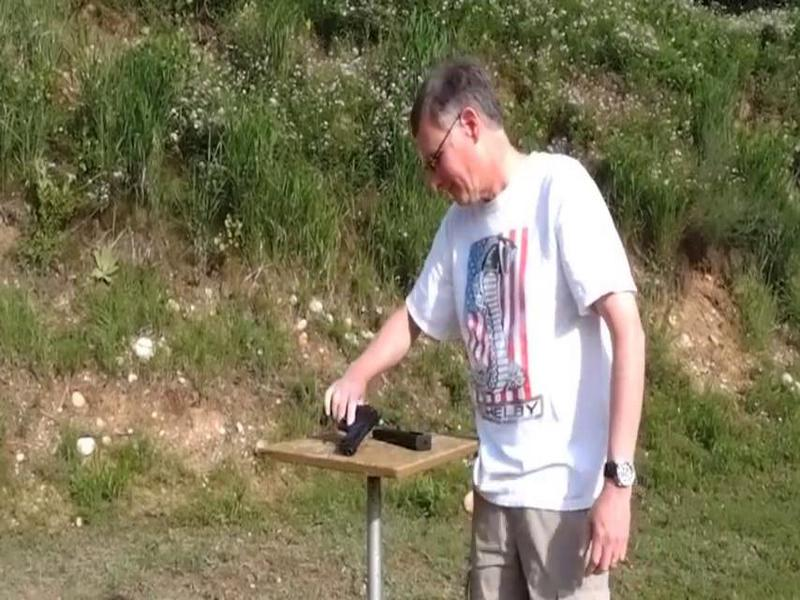Pistola: (300, 391, 395, 474)
